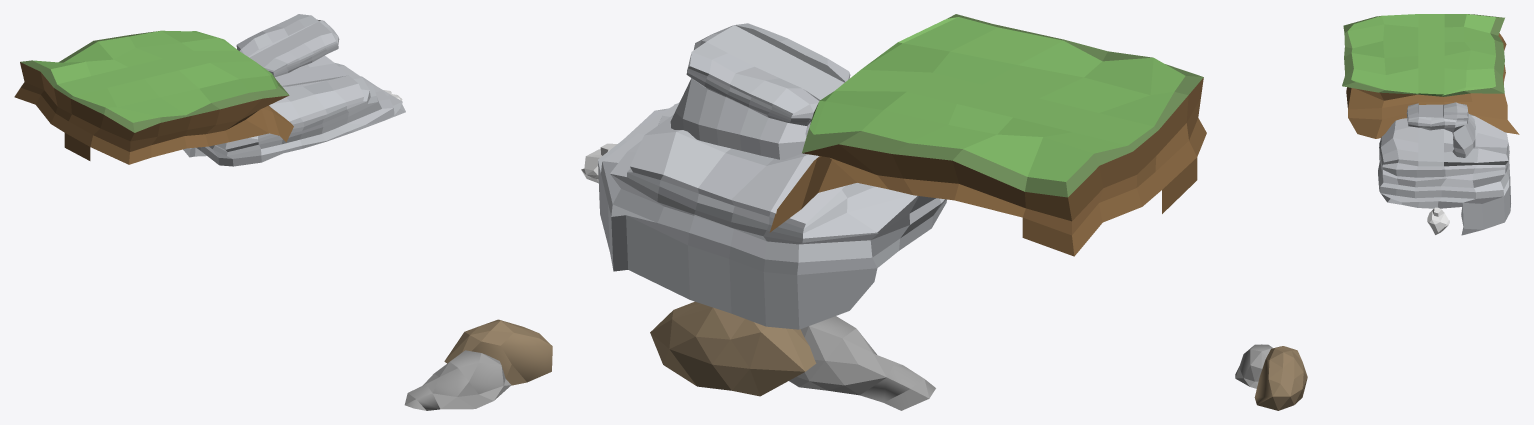
File: 점프로인한수정.fbx
3 views of the same model, side by side, from view 1: azimuth 30°, elevation 25°; view 2: azimuth 150°, elevation 25°; view 3: azimuth 270°, elevation 25° (orthographic). The views are drawn at different scales.
Visible parts, largest first — view 1: Island_B.002, Rock_IslandB, Rock.018, Rock.019, Rock_IslandA, Island_B_Cube.006, Rock_IslandB_Cube; view 2: Island_B.002, Rock_IslandB, Rock.019, Rock_IslandA, Rock.018, Rock_IslandA.001, Island_B_Cube.006; view 3: Island_B.002, Rock_IslandB, Rock.019, Rock_IslandA, Rock.018, Island_B_Cube.006, Rock_IslandB_Cube, Rock_IslandA.001, Rock.013.
Part boxes in pixels (bbox=[...]): Island_B.002: bbox=[14, 30, 293, 164]; Rock_IslandB: bbox=[183, 55, 405, 166]; Rock.018: bbox=[404, 350, 511, 410]; Rock.019: bbox=[444, 319, 552, 385]; Rock_IslandA: bbox=[236, 14, 339, 76]; Island_B_Cube.006: bbox=[54, 50, 219, 98]; Rock_IslandB_Cube: bbox=[275, 63, 348, 86]; Island_B.002: bbox=[769, 14, 1206, 256]; Rock_IslandB: bbox=[598, 103, 946, 329]; Rock.019: bbox=[650, 301, 816, 396]; Rock_IslandA: bbox=[686, 23, 850, 125]; Rock.018: bbox=[789, 316, 935, 410]; Rock_IslandA.001: bbox=[670, 78, 806, 159]; Island_B_Cube.006: bbox=[913, 72, 1158, 151]; Island_B.002: bbox=[1342, 14, 1519, 138]; Rock_IslandB: bbox=[1378, 114, 1510, 235]; Rock.019: bbox=[1254, 346, 1307, 410]; Rock_IslandA: bbox=[1406, 102, 1468, 132]; Rock.018: bbox=[1235, 344, 1272, 388]; Island_B_Cube.006: bbox=[1418, 14, 1444, 93]; Rock_IslandB_Cube: bbox=[1418, 128, 1443, 161]; Rock_IslandA.001: bbox=[1452, 113, 1475, 157]; Rock.013: bbox=[1427, 207, 1449, 234].
Size of the model in its own units: 7612 by 9998 by 7350.
